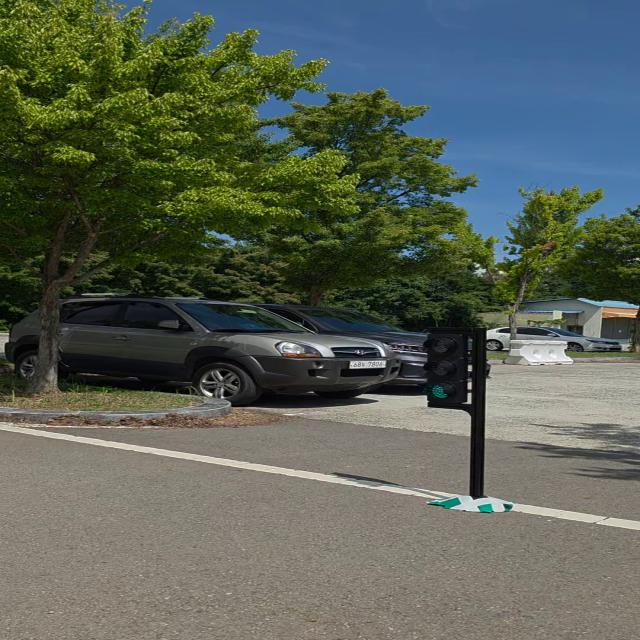green: (425, 323, 479, 410)
